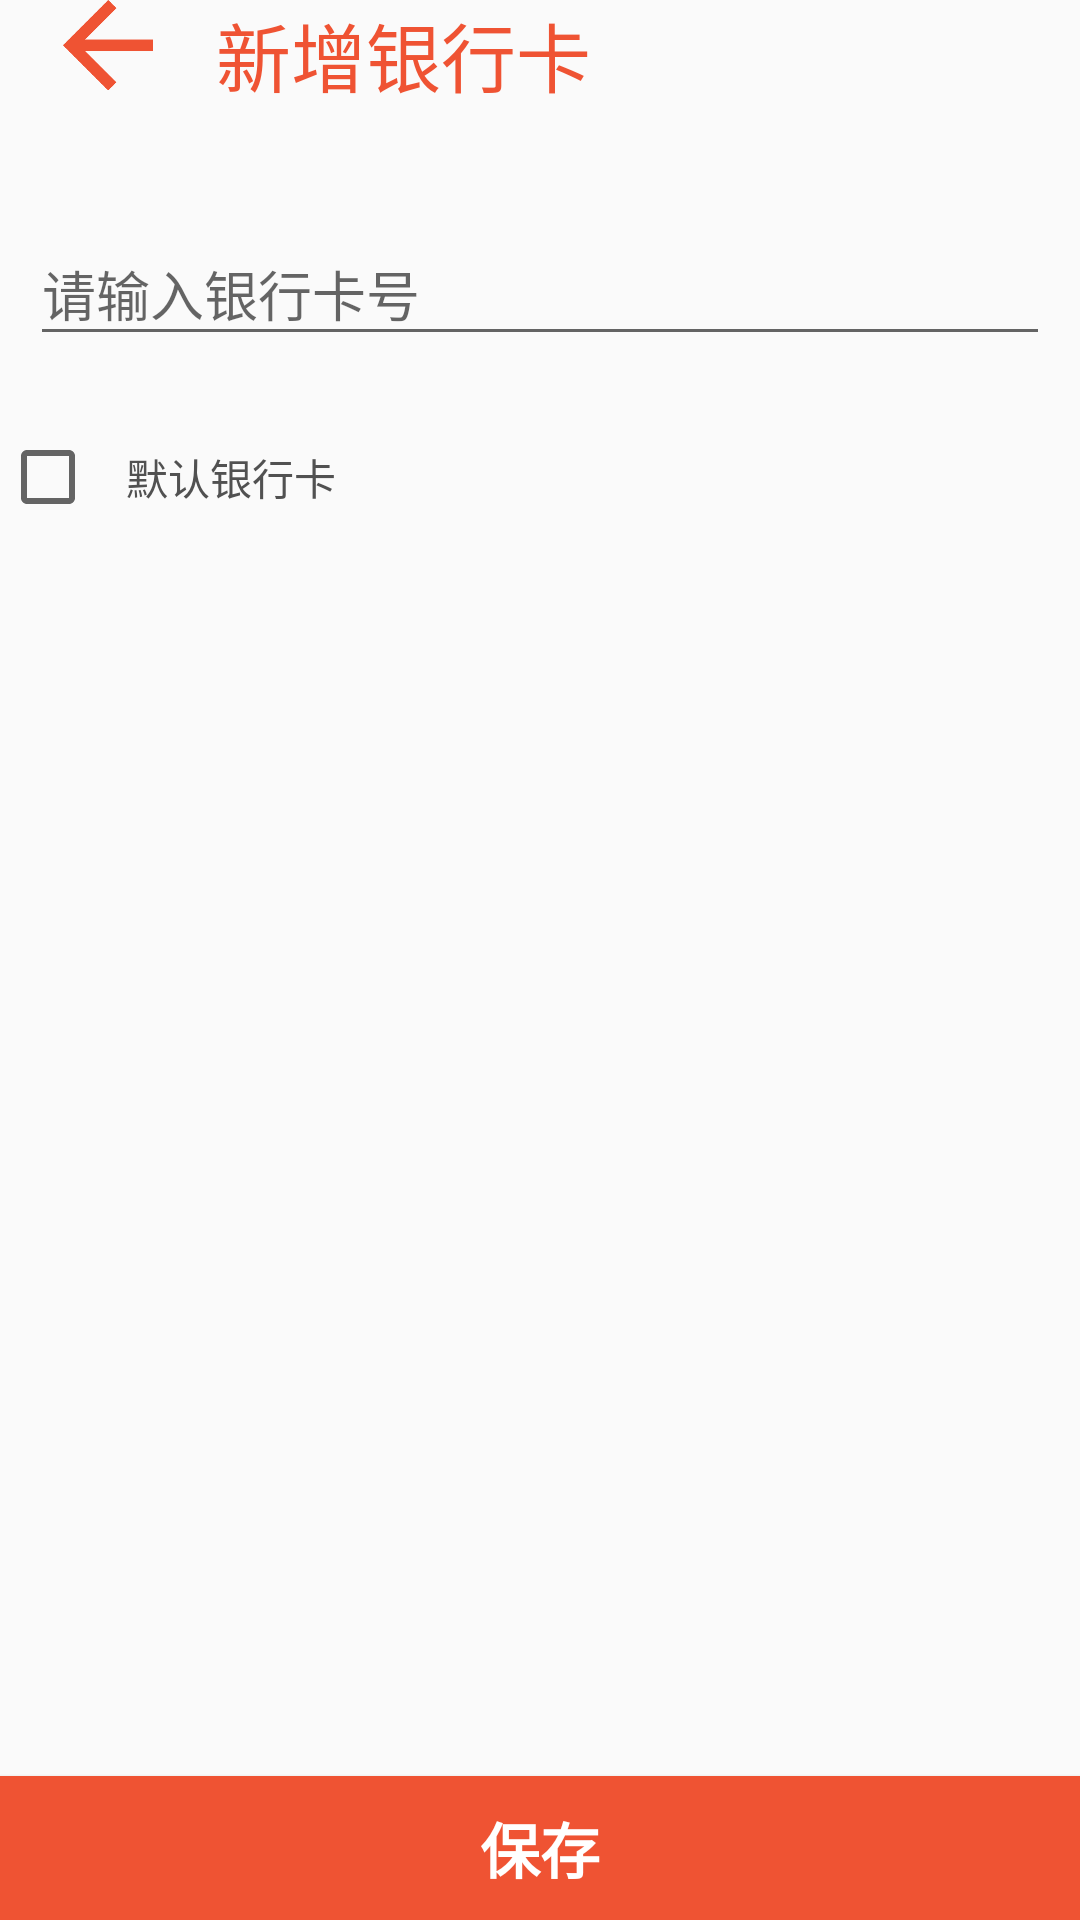

Screen size 1080w x 1920h. Icon name, then its box in pixels as bbox=(x1, y1, x2, y2):
return last: bbox=(63, 0, 153, 90)
